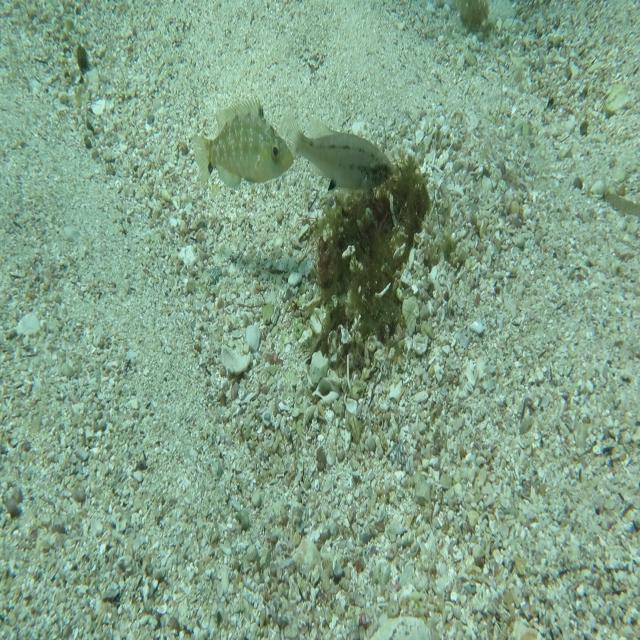GB: (191, 96, 295, 192)
core_nest: (365, 188, 411, 234)
female: (284, 114, 397, 196)
nest: (303, 151, 434, 358)
